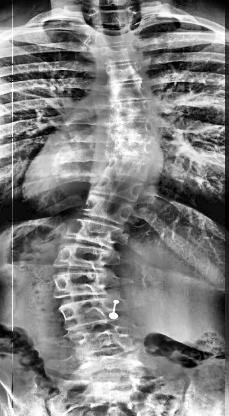Vertebrae: (57, 296, 121, 328), (50, 242, 116, 272), (70, 326, 136, 356), (63, 220, 127, 248), (49, 268, 108, 297), (78, 194, 134, 224), (89, 175, 142, 203), (88, 22, 140, 48), (104, 154, 152, 182), (106, 116, 156, 142), (104, 78, 156, 102), (87, 5, 137, 29), (108, 135, 158, 159), (113, 96, 157, 122), (94, 44, 144, 64), (102, 62, 150, 82)
